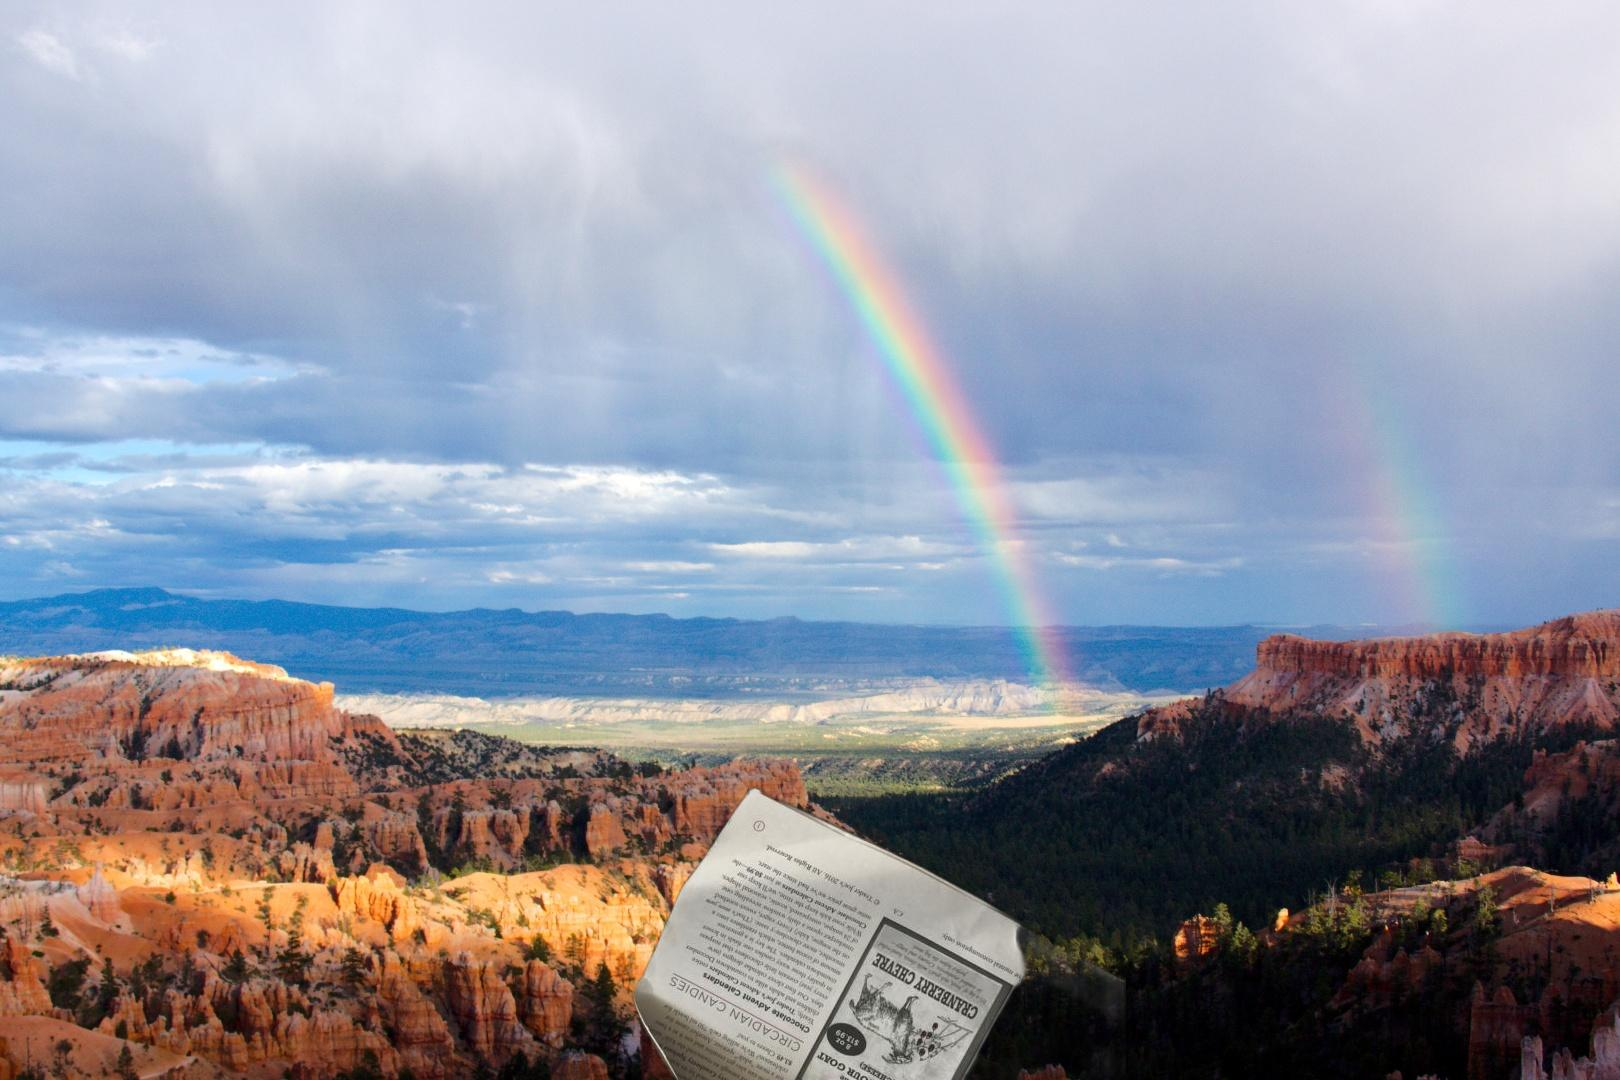paper: (628, 785, 1126, 1080)
